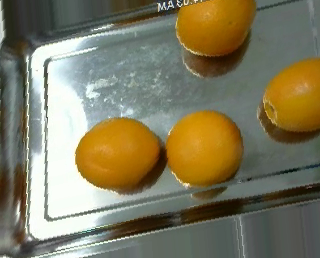Orange: (75, 115, 161, 189), (163, 110, 244, 185), (262, 55, 320, 133)
